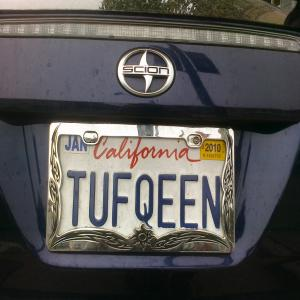Vehicle-registration-plate: (46, 120, 235, 256)
